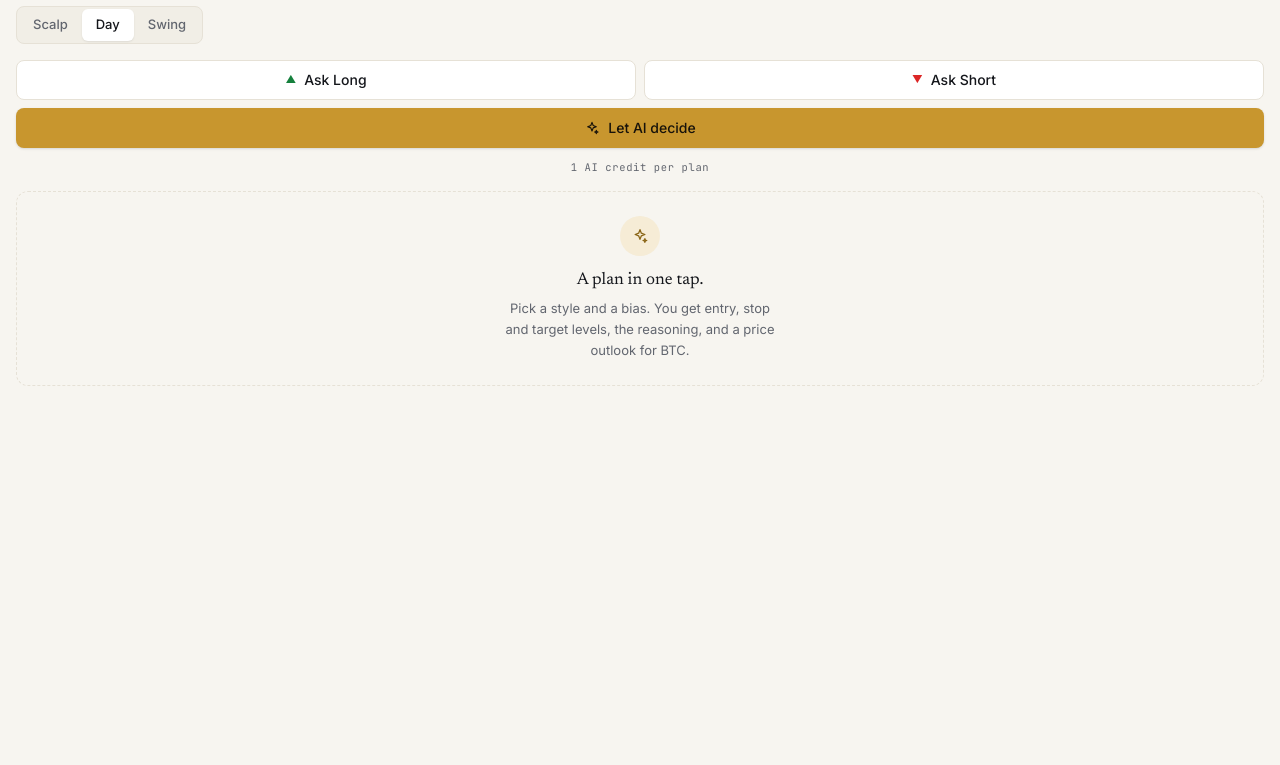
Test case: Copilot › heads the plan with its timeframe and the daily trend
The image size is (1280, 765).
Click the button "Let AI decide".
click(640, 128)  # box [16,108,1264,148]
(page scrolled)
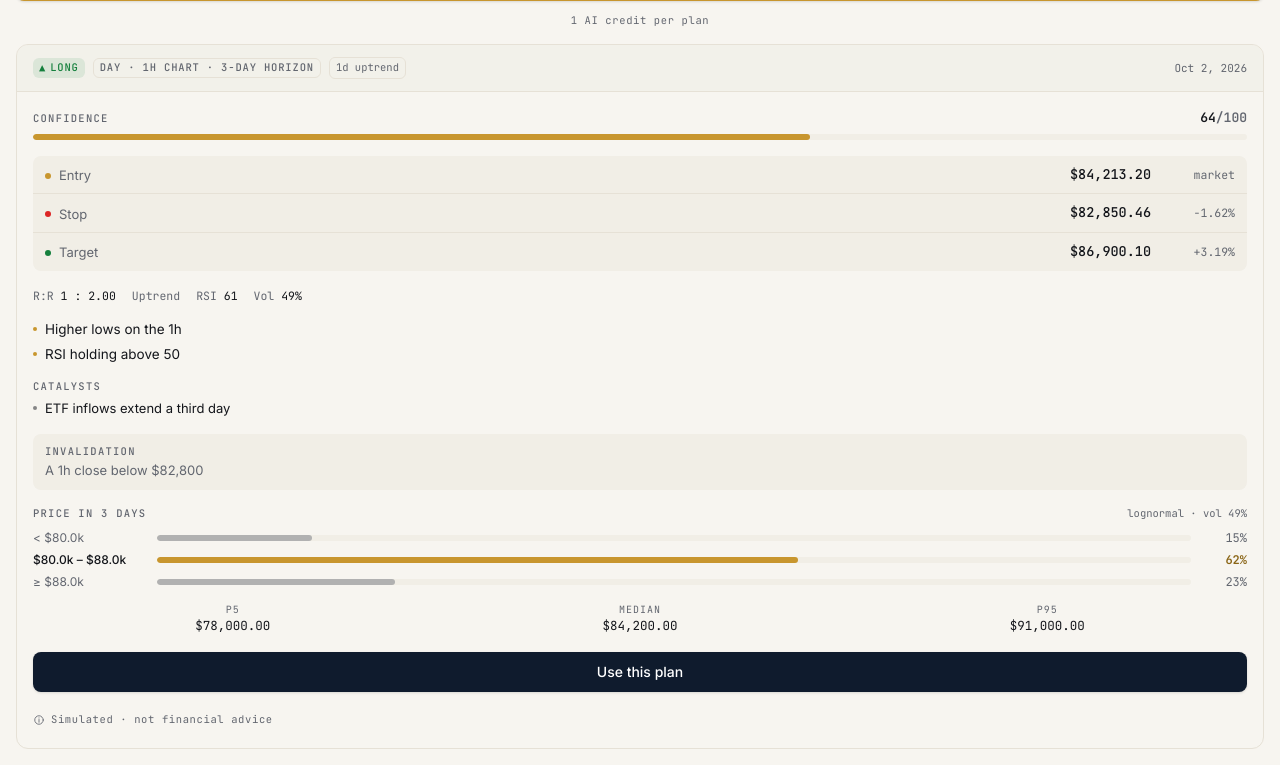
Now the text "Day · 1h chart · 3-day horizon" is shown, box [93,58,321,78]
Now the text "1d uptrend" is shown, box [329,57,406,79]
Now the button "Use this plan" is enabled, box [33,652,1247,692]
